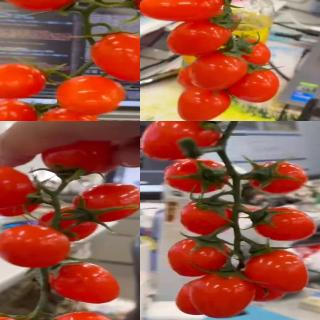tomato: (0, 223, 72, 267), (190, 273, 255, 320), (140, 121, 220, 159), (50, 262, 122, 304), (243, 249, 310, 293), (54, 74, 127, 114), (41, 141, 118, 177), (90, 28, 140, 83), (73, 183, 140, 224), (168, 238, 232, 276), (163, 159, 230, 195), (190, 50, 247, 91), (249, 208, 317, 242), (168, 19, 232, 55), (175, 276, 230, 315), (250, 159, 310, 194), (180, 197, 234, 235), (140, 0, 225, 23), (0, 164, 41, 211), (177, 86, 232, 121), (227, 69, 280, 104), (0, 62, 48, 100), (0, 0, 77, 16), (45, 309, 131, 320), (38, 107, 102, 121), (0, 100, 40, 121), (240, 41, 270, 66)
